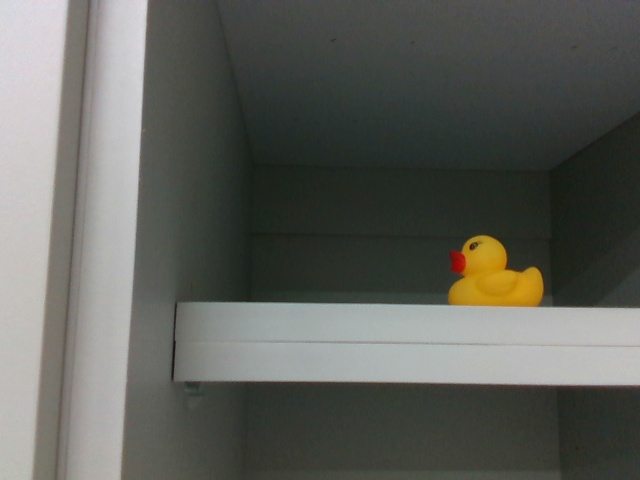duck: (444, 233, 547, 305)
